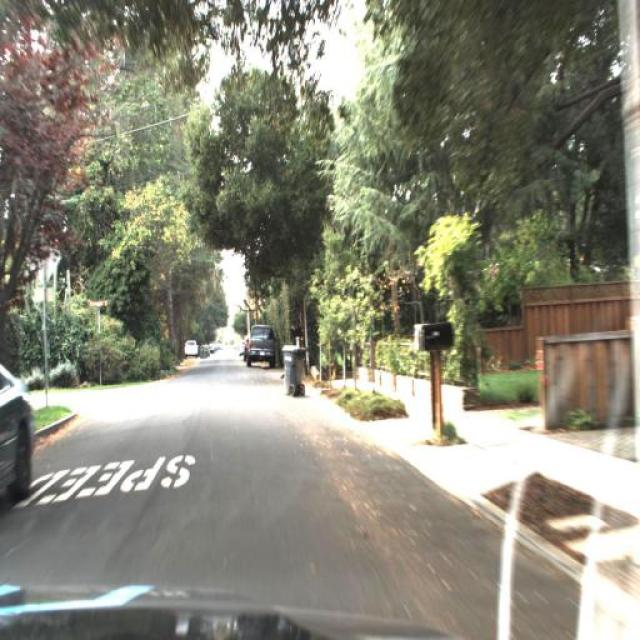car: (0, 353, 36, 509), (246, 323, 278, 372), (180, 330, 201, 366)
